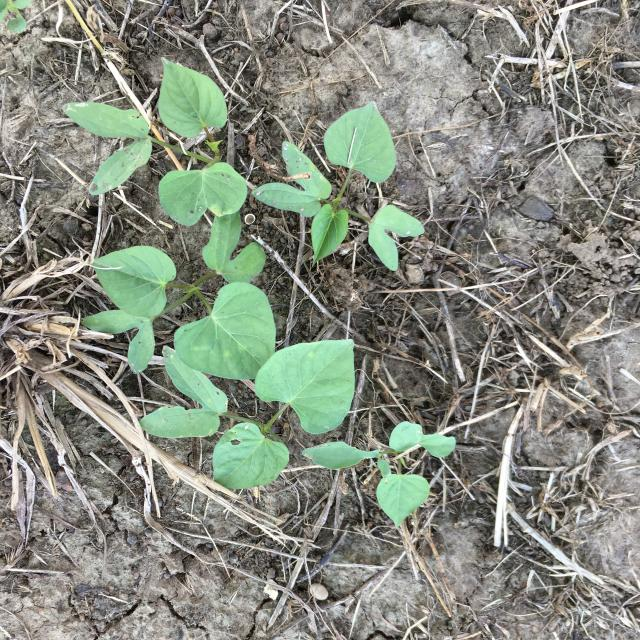MorningGlory: (80, 210, 276, 380), (138, 340, 356, 490), (62, 57, 248, 228), (251, 101, 425, 272), (302, 421, 456, 529)
